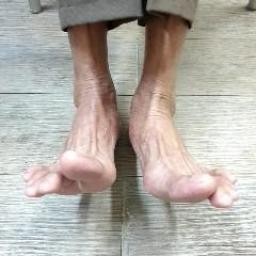Front View -Both Feet-: (10, 58, 250, 230)
